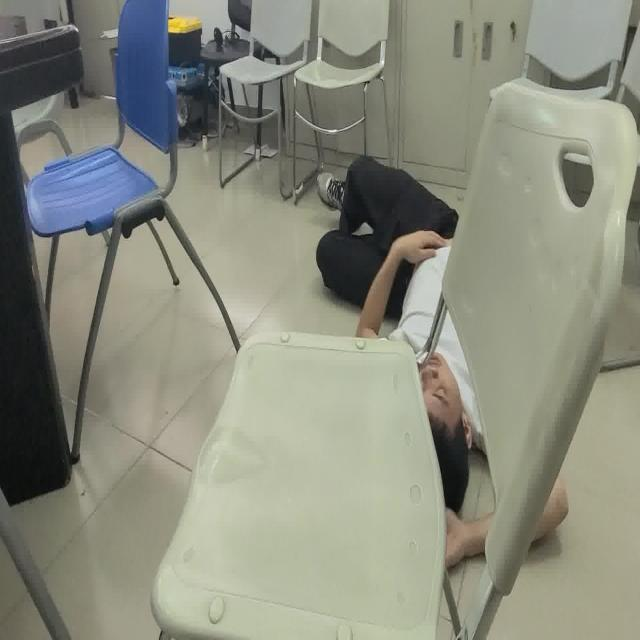Fall-Detected: (313, 156, 569, 564)
